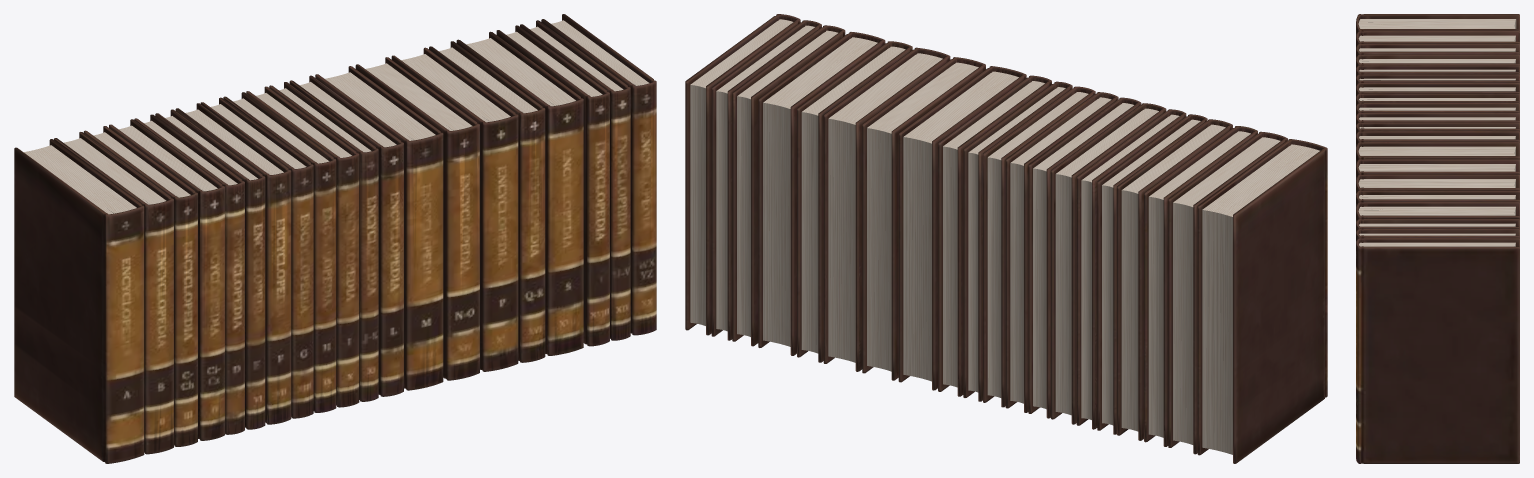
The model's file is books.glb.
The picture shows the model from 3 angles, left to right: view 1: azimuth 30°, elevation 25°; view 2: azimuth 150°, elevation 25°; view 3: azimuth 270°, elevation 25°; orthographic projection. The views are drawn at different scales.
Visible parts, largest first — view 1: book_encyclopedia_set_01_book01, book_encyclopedia_set_01_book13, book_encyclopedia_set_01_book15, book_encyclopedia_set_01_book17, book_encyclopedia_set_01_book14, book_encyclopedia_set_01_book02, book_encyclopedia_set_01_book16, book_encyclopedia_set_01_book04, book_encyclopedia_set_01_book18, book_encyclopedia_set_01_book20, book_encyclopedia_set_01_book07, book_encyclopedia_set_01_book12 (+8 smaller); view 2: book_encyclopedia_set_01_book01, book_encyclopedia_set_01_book13, book_encyclopedia_set_01_book15, book_encyclopedia_set_01_book17, book_encyclopedia_set_01_book14, book_encyclopedia_set_01_book02, book_encyclopedia_set_01_book04, book_encyclopedia_set_01_book16, book_encyclopedia_set_01_book20, book_encyclopedia_set_01_book18, book_encyclopedia_set_01_book07, book_encyclopedia_set_01_book12 (+8 smaller); view 3: book_encyclopedia_set_01_book20, book_encyclopedia_set_01_book13, book_encyclopedia_set_01_book01, book_encyclopedia_set_01_book17, book_encyclopedia_set_01_book15, book_encyclopedia_set_01_book14, book_encyclopedia_set_01_book02, book_encyclopedia_set_01_book16, book_encyclopedia_set_01_book03, book_encyclopedia_set_01_book12, book_encyclopedia_set_01_book07, book_encyclopedia_set_01_book04 (+8 smaller).
Part boxes in pixels (x1,y1,x2,y2): book_encyclopedia_set_01_book01: (14,139,144,463); book_encyclopedia_set_01_book13: (315,66,443,390); book_encyclopedia_set_01_book15: (391,47,518,371); book_encyclopedia_set_01_book17: (456,31,583,355); book_encyclopedia_set_01_book14: (355,57,479,380); book_encyclopedia_set_01_book02: (54,132,173,454); book_encyclopedia_set_01_book16: (429,41,545,362); book_encyclopedia_set_01_book04: (109,119,224,440); book_encyclopedia_set_01_book18: (496,25,609,346); book_encyclopedia_set_01_book20: (541,14,656,335); book_encyclopedia_set_01_book07: (175,103,291,424); book_encyclopedia_set_01_book12: (289,75,403,396); book_encyclopedia_set_01_book01: (1197,139,1327,463); book_encyclopedia_set_01_book13: (898,66,1026,390); book_encyclopedia_set_01_book15: (823,47,950,371); book_encyclopedia_set_01_book17: (758,32,885,355); book_encyclopedia_set_01_book14: (862,57,985,380); book_encyclopedia_set_01_book02: (1168,131,1287,454); book_encyclopedia_set_01_book04: (1117,119,1232,440); book_encyclopedia_set_01_book16: (797,41,912,362); book_encyclopedia_set_01_book20: (685,14,800,335); book_encyclopedia_set_01_book18: (732,25,845,346); book_encyclopedia_set_01_book07: (1051,103,1166,424); book_encyclopedia_set_01_book12: (938,75,1051,396); book_encyclopedia_set_01_book20: (1356,238,1519,463); book_encyclopedia_set_01_book13: (1356,142,1519,165); book_encyclopedia_set_01_book01: (1356,14,1519,35); book_encyclopedia_set_01_book17: (1356,202,1519,221); book_encyclopedia_set_01_book15: (1356,174,1519,194); book_encyclopedia_set_01_book14: (1356,159,1519,180); book_encyclopedia_set_01_book02: (1356,30,1519,47); book_encyclopedia_set_01_book16: (1356,190,1519,222); book_encyclopedia_set_01_book03: (1356,43,1519,58); book_encyclopedia_set_01_book12: (1356,131,1519,149); book_encyclopedia_set_01_book07: (1356,82,1519,96); book_encyclopedia_set_01_book04: (1356,54,1519,68).
Bounding box in the file's own units: 0.5513 × 0.2374 × 0.1631.
Materials: 2 (2 with a texture image).
